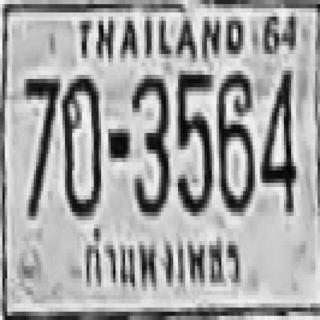N00: (61, 73, 100, 214)
N03: (132, 71, 168, 212)
N04: (260, 66, 294, 212)
N05: (176, 66, 212, 212)
N06: (216, 69, 252, 210)
N07: (23, 75, 59, 216)
P16: (76, 222, 245, 299)
